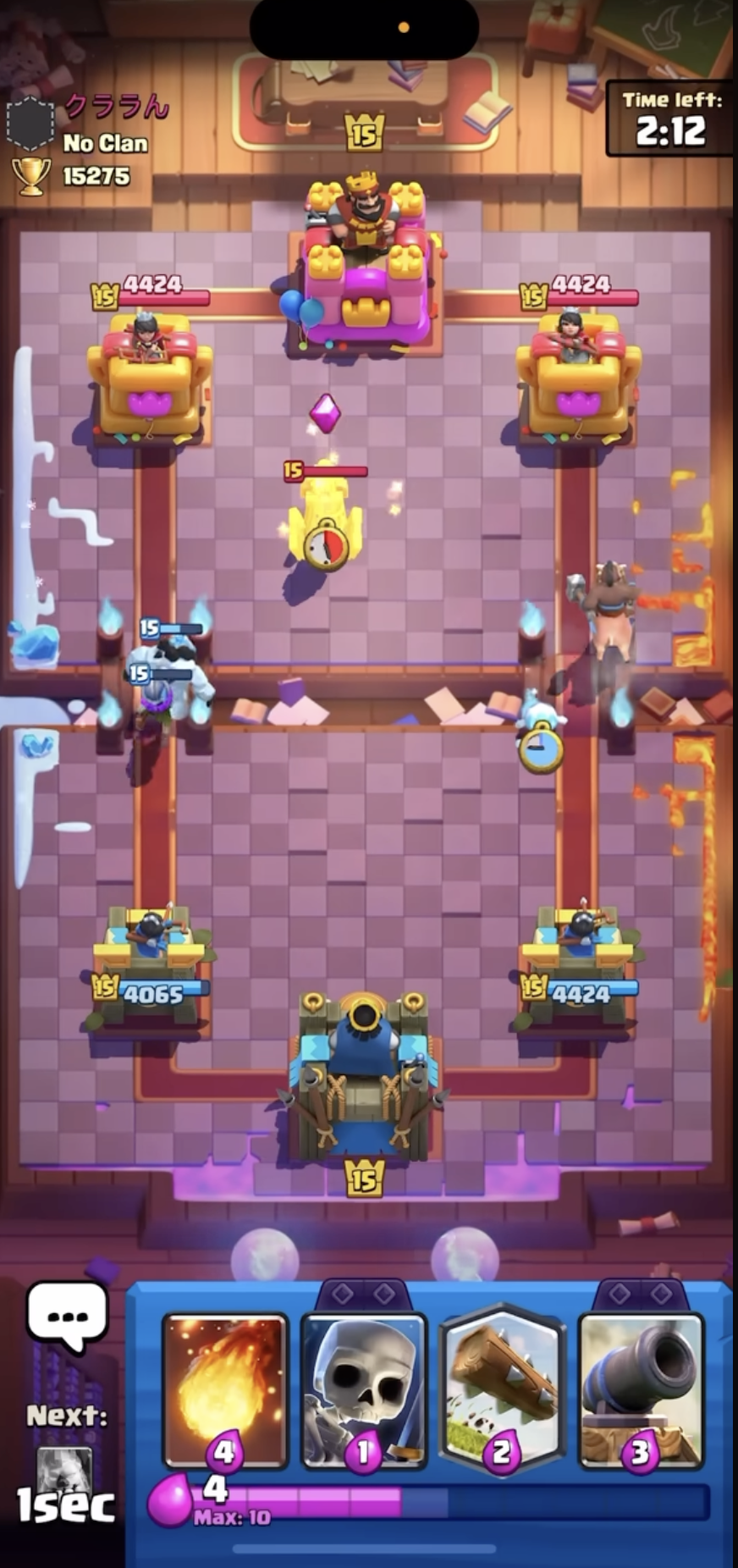tesla: (277, 396, 376, 578)
